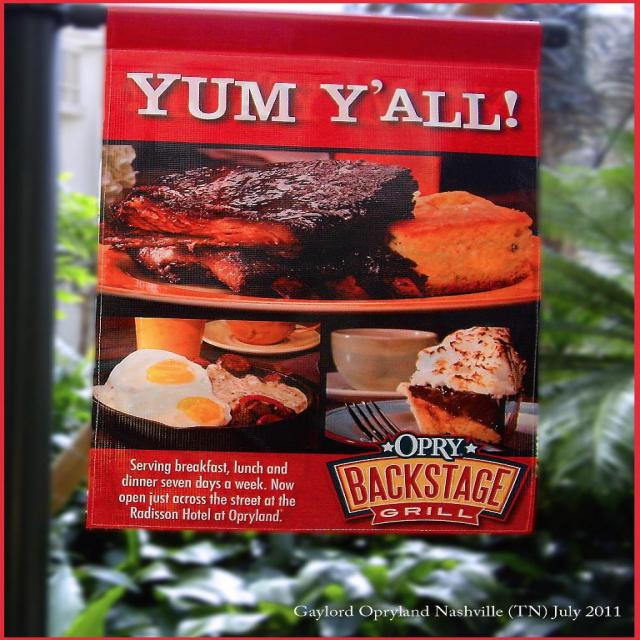Egg: (92, 347, 234, 429)
